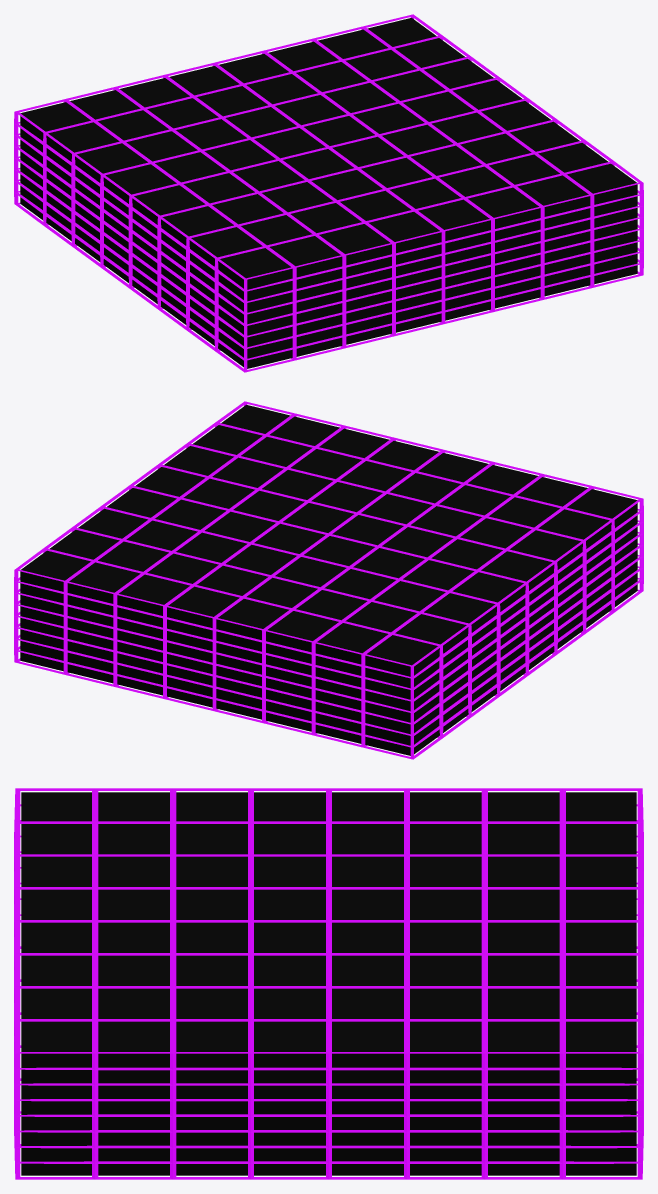
File: asset platfor.glb
3 renders of one model, top to bottom at view 1: azimuth 30°, elevation 25°; view 2: azimuth 150°, elevation 25°; view 3: azimuth 270°, elevation 25°, orthographic. The views are drawn at different scales.
Visible parts, largest first — view 1: Cube.001; view 2: Cube.001; view 3: Cube.001.
Part boxes in pixels (left/top/right/bottom): Cube.001: left=14, top=14, right=643, bottom=372; Cube.001: left=14, top=401, right=643, bottom=759; Cube.001: left=14, top=788, right=643, bottom=1179.
Bounding box in the file's own units: 8.62 × 1.91 × 8.62.
